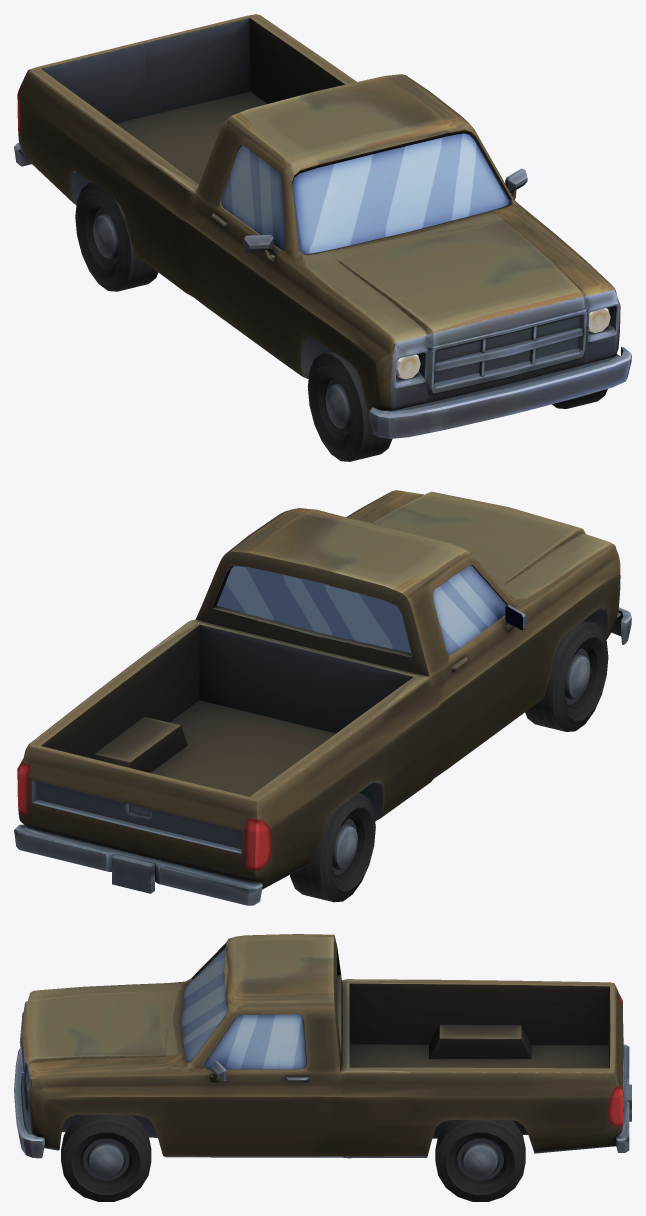
File: Car-3.fbx
3 views of the same model, one above another, from view 1: azimuth 30°, elevation 25°; view 2: azimuth 150°, elevation 25°; view 3: azimuth 270°, elevation 25° (orthographic). The views are drawn at different scales.
Visible parts, largest first — view 1: Car-3, Car-3-W-F-R, Car-3-W-B; view 2: Car-3, Car-3-W-F-R, Car-3-W-B; view 3: Car-3, Car-3-W-F-L, Car-3-W-B.
Part boxes in pixels (x1,y1,x2,y2): Car-3: (14, 14, 631, 438); Car-3-W-F-R: (308, 350, 392, 461); Car-3-W-B: (75, 182, 158, 291); Car-3: (14, 490, 631, 905); Car-3-W-F-R: (525, 621, 608, 731); Car-3-W-B: (290, 793, 375, 902); Car-3: (14, 934, 631, 1158); Car-3-W-F-L: (61, 1114, 151, 1201); Car-3-W-B: (435, 1120, 525, 1201).
Bounding box in the file's own units: 2.1 × 1.66 × 4.96.
